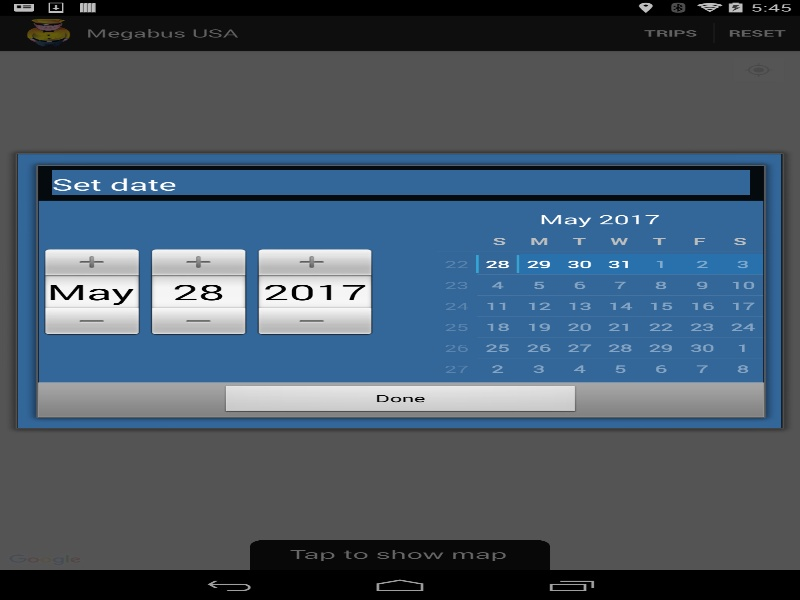Button: (220, 385, 580, 415), (253, 247, 376, 275), (253, 308, 376, 335), (40, 247, 144, 275), (146, 247, 250, 275), (40, 308, 144, 335), (146, 308, 250, 335)
Input: (253, 275, 376, 308), (40, 275, 144, 308), (146, 275, 250, 308)
